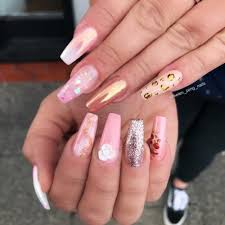nail: (56, 64, 101, 103), (59, 27, 98, 66), (85, 78, 129, 111), (138, 70, 183, 99), (71, 112, 98, 156), (101, 112, 122, 161), (30, 164, 51, 211), (127, 119, 145, 167), (151, 116, 169, 161)
